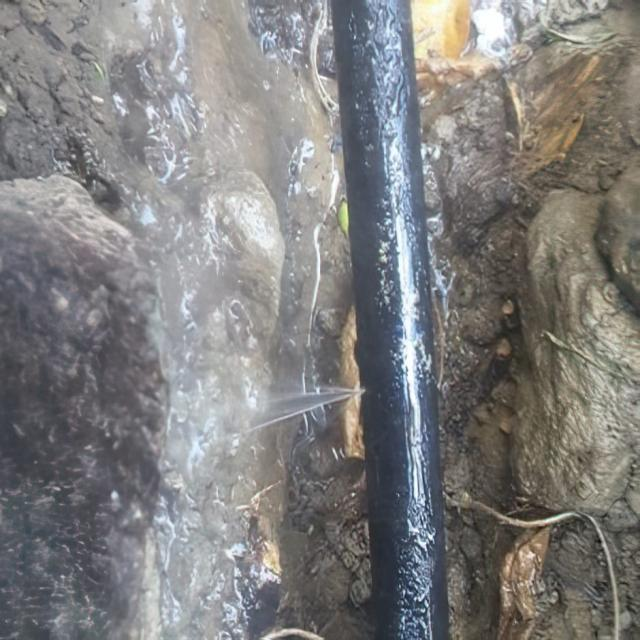leak: (248, 388, 364, 430)
